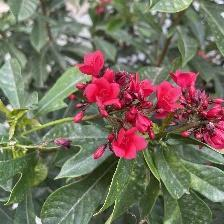jatropha: (112, 125, 151, 163), (83, 78, 124, 109)
